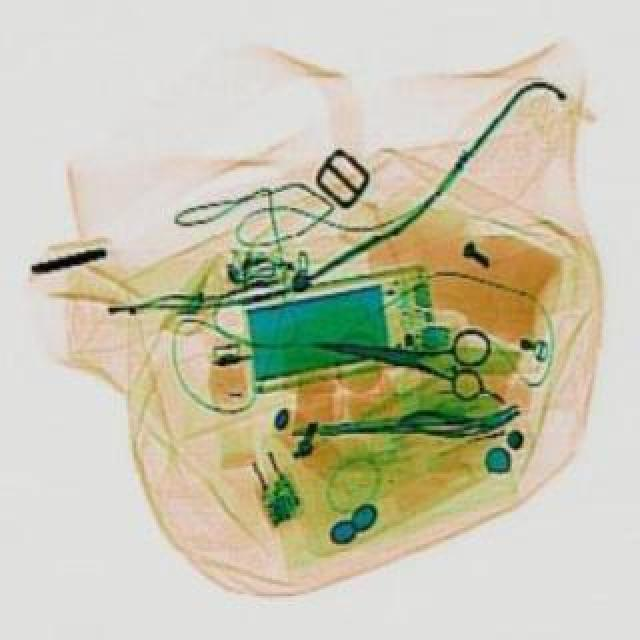pliers: (304, 304, 490, 400)
